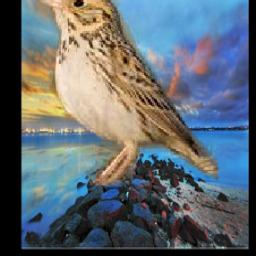Sparrow: (36, 0, 219, 185)
